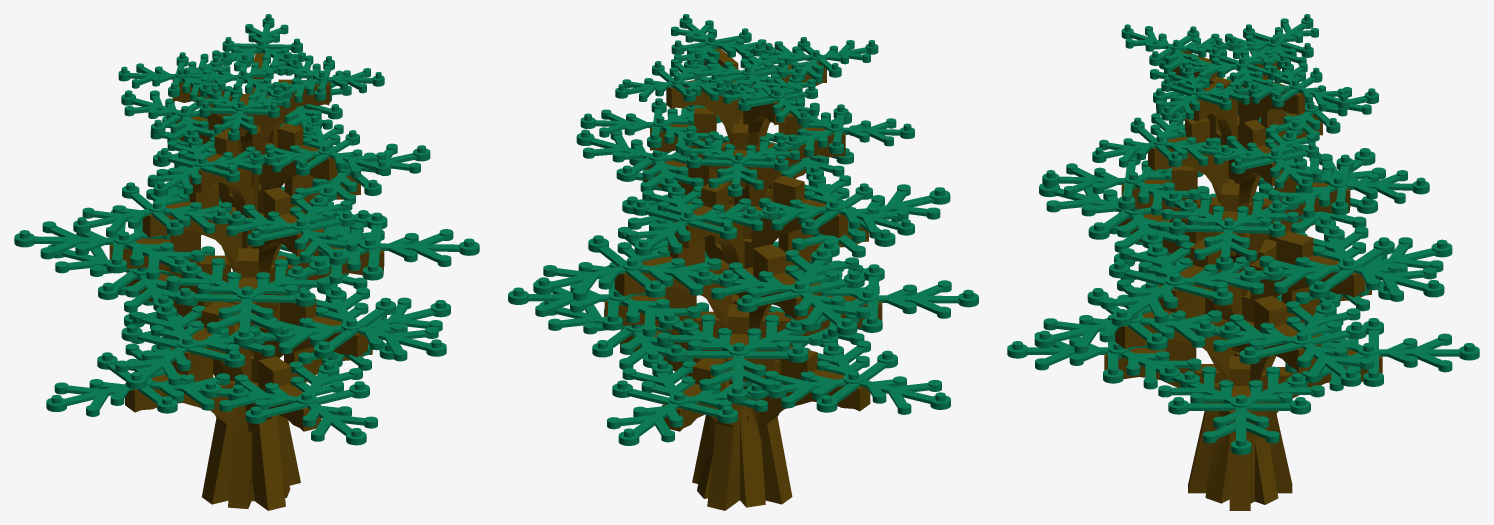
Rendered from tree.glb.
3 views of the same model, side by side, from view 1: azimuth 30°, elevation 25°; view 2: azimuth 150°, elevation 25°; view 3: azimuth 270°, elevation 25° (orthographic).
Visible parts, largest first — view 1: __exp_tmp; view 2: __exp_tmp; view 3: __exp_tmp.
Boxes of the visible parts, bbox=[...] form: __exp_tmp: bbox=[14, 14, 479, 510]; __exp_tmp: bbox=[508, 14, 978, 510]; __exp_tmp: bbox=[1007, 14, 1479, 510].
Size of the model in its own units: 5.19 by 5.18 by 5.19.
